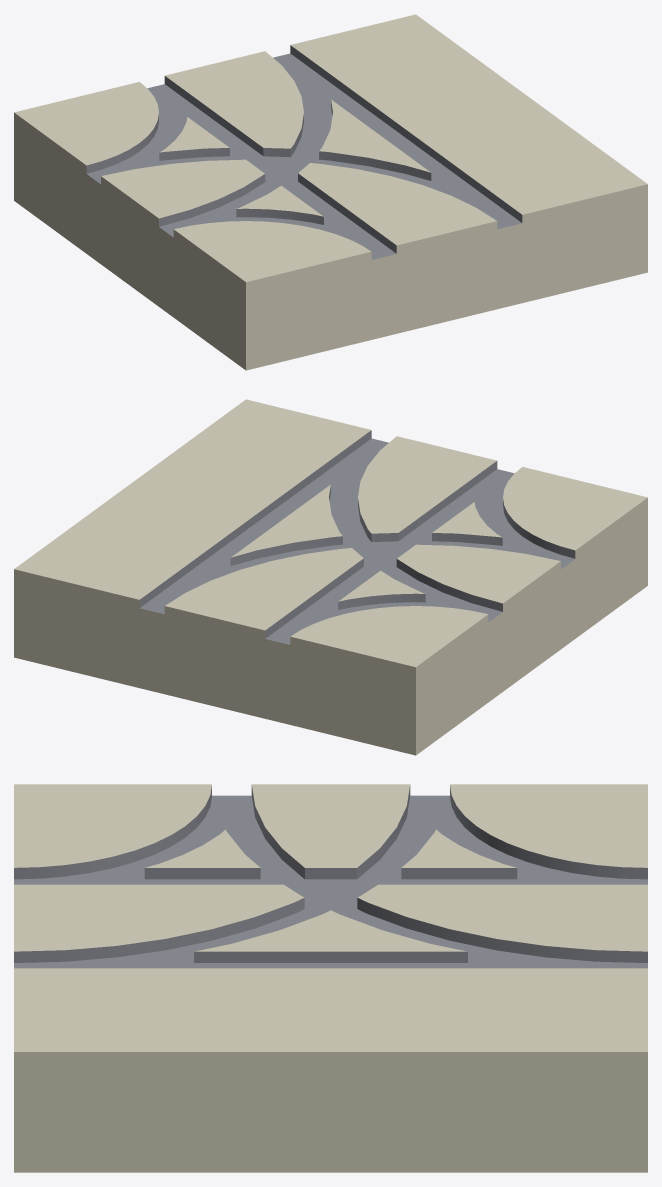
File: tile271.fbx
3 views of the same model, one above another, from view 1: azimuth 30°, elevation 25°; view 2: azimuth 150°, elevation 25°; view 3: azimuth 270°, elevation 25° (orthographic). The views are drawn at different scales.
Parts seen in each view (by area): view 1: tile271; view 2: tile271; view 3: tile271.
Part boxes in pixels (x1,y1,x2,y2): tile271: [14, 14, 647, 370]; tile271: [14, 399, 647, 755]; tile271: [14, 784, 647, 1172].
Bounding box in the file's own units: 10 × 2.1 × 10.
